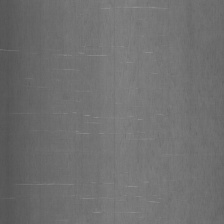waist_folding: (21, 15, 182, 200)
